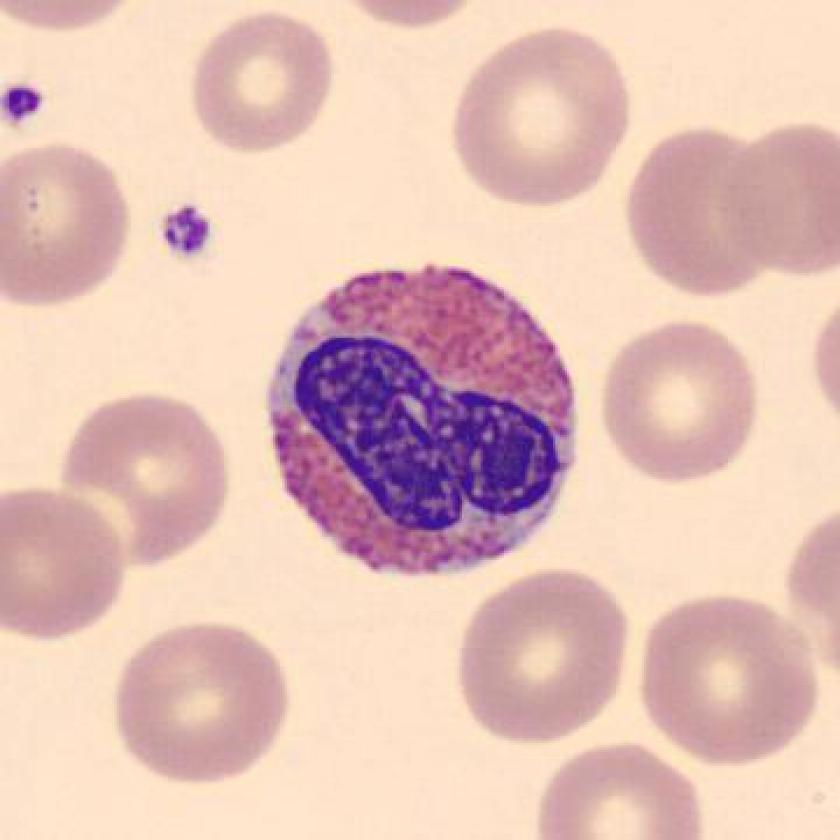eosinophil: (255, 253, 587, 589)
